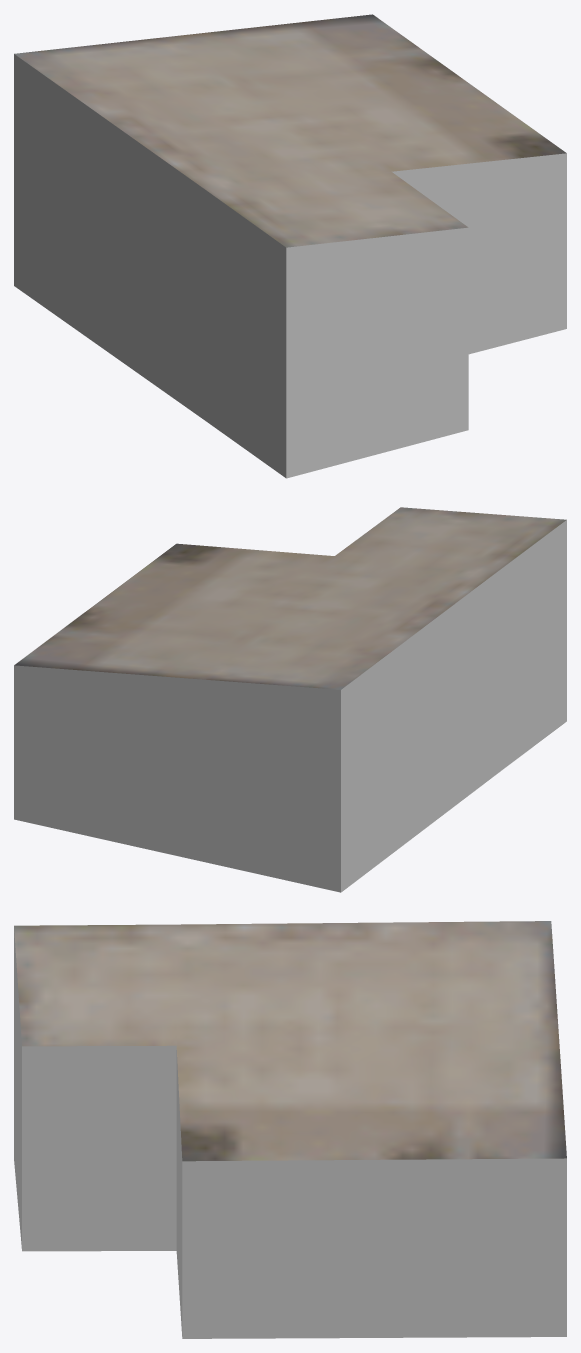
Rendered from DEBW_0010007Tx9e.gltf.
3 views of the same model, one above another, from view 1: azimuth 30°, elevation 25°; view 2: azimuth 150°, elevation 25°; view 3: azimuth 270°, elevation 25° (orthographic). The views are drawn at different scales.
Parts seen in each view (by area): view 1: Z_UP; view 2: Z_UP; view 3: Z_UP.
Part boxes in pixels (x1,y1,x2,y2): Z_UP: [14, 14, 566, 478]; Z_UP: [14, 507, 566, 892]; Z_UP: [14, 921, 566, 1338].
Size of the model in its own units: 9.11 by 5.45 by 11.63.
2 materials, 1 textured.
